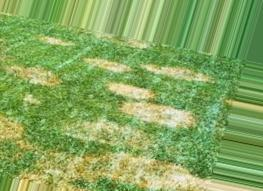patch: (147, 55, 183, 82), (129, 106, 181, 123), (70, 119, 106, 139), (10, 64, 45, 84), (115, 153, 148, 173), (90, 54, 125, 71), (102, 79, 143, 93), (49, 161, 93, 174), (1, 115, 24, 139), (46, 34, 78, 47), (171, 164, 186, 182), (119, 127, 136, 138)
